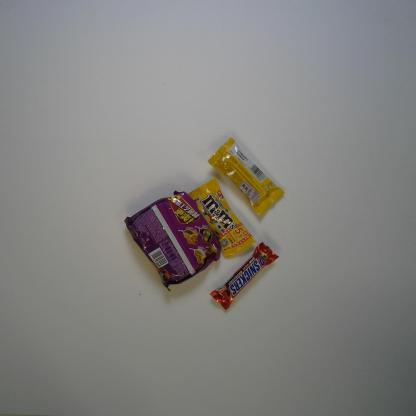Chocolate: (206, 136, 286, 221), (183, 177, 257, 259), (209, 240, 279, 312)
Instant Noodles: (124, 188, 223, 292)
